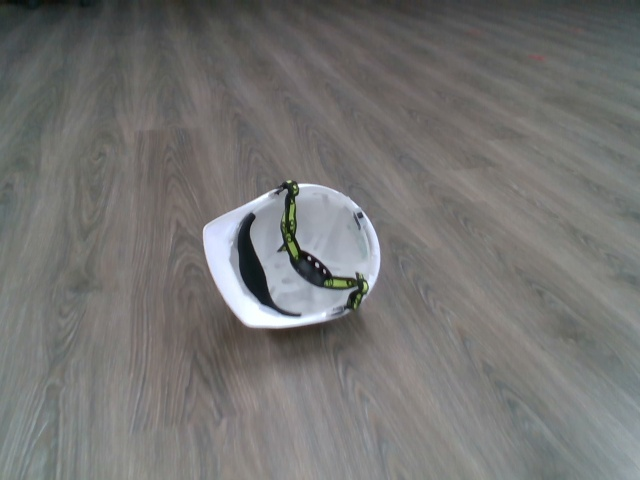helmet: (199, 175, 386, 336)
